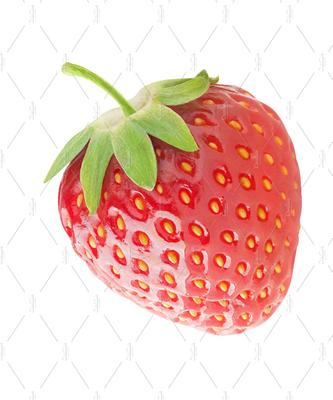strawberry: (0, 0, 333, 400)
